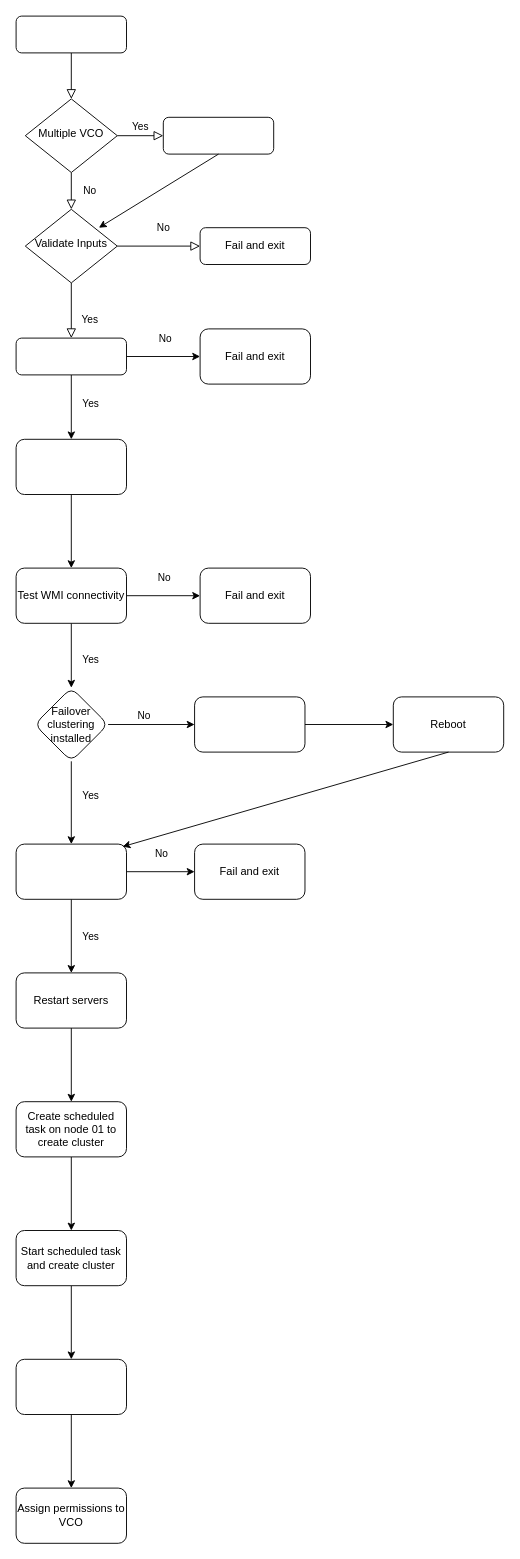
This 520x1559 diagram has some shape labels left out. Here are the shapes that lost their labels. From the top down, the centre of each, then its label:
At (x=70, y=34): "Collect input details".
At (x=218, y=135): "Supply reserved IPs".
At (x=70, y=356): "Reserve free IP in IPAM".
At (x=70, y=466): "Collect service accounts".
At (x=249, y=724): "Install Failover clustering".
At (x=70, y=871): "Move servers to OU and add to CLUSSVC-Enable Group".
At (x=70, y=1386): "Create VCO object in AD".
